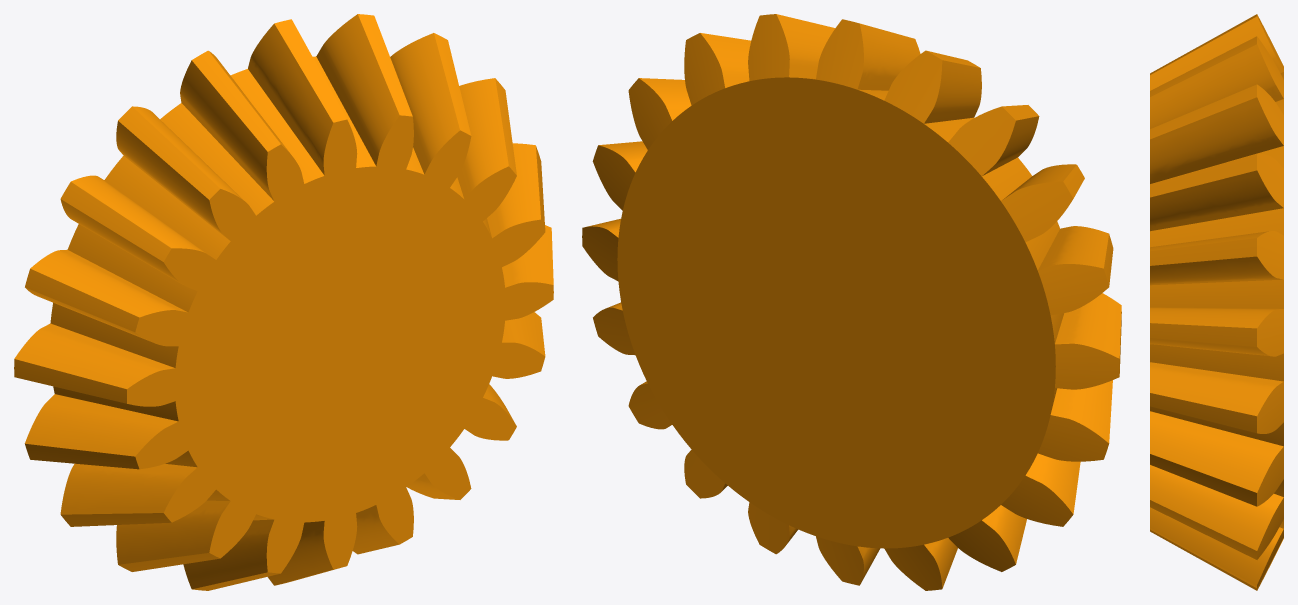
File: assembly.glb
3 renders of one model, left to right at view 1: azimuth 30°, elevation 25°; view 2: azimuth 150°, elevation 25°; view 3: azimuth 270°, elevation 25°, orthographic. The views are drawn at different scales.
Parts seen in each view (by area): view 1: bevel-gear-m2-z20-d26.57/body; view 2: bevel-gear-m2-z20-d26.57/body; view 3: bevel-gear-m2-z20-d26.57/body.
Part boxes in pixels (x1,y1,x2,y2): bevel-gear-m2-z20-d26.57/body: [14, 14, 553, 590]; bevel-gear-m2-z20-d26.57/body: [582, 14, 1121, 590]; bevel-gear-m2-z20-d26.57/body: [1150, 14, 1283, 590].
Bounding box in the file's own units: 0.0436 × 0.0436 × 0.0101.
